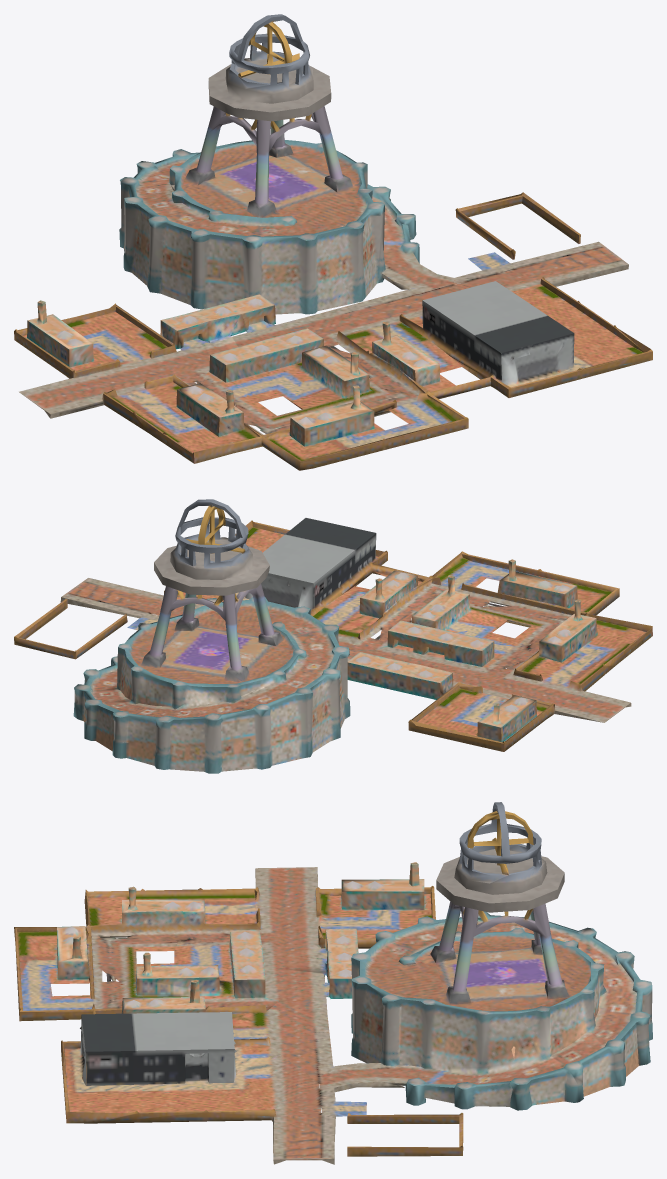
Rendered from clod_town_t09_clod_far000.gltf.
3 views of the same model, one above another, from view 1: azimuth 30°, elevation 25°; view 2: azimuth 150°, elevation 25°; view 3: azimuth 270°, elevation 25° (orthographic). The views are drawn at different scales.
Parts seen in each view (by area): view 1: clod_town_t09_clod_far000_000_meshShape:remesh_mat; view 2: clod_town_t09_clod_far000_000_meshShape:remesh_mat; view 3: clod_town_t09_clod_far000_000_meshShape:remesh_mat.
Boxes of the visible parts, x1,y1,x2,y2 form: clod_town_t09_clod_far000_000_meshShape:remesh_mat: (14,14,652,470); clod_town_t09_clod_far000_000_meshShape:remesh_mat: (14,499,652,773); clod_town_t09_clod_far000_000_meshShape:remesh_mat: (14,802,652,1164).
Bounding box in the file's own units: 182 × 71.75 × 168.
1 material, 1 textured.
